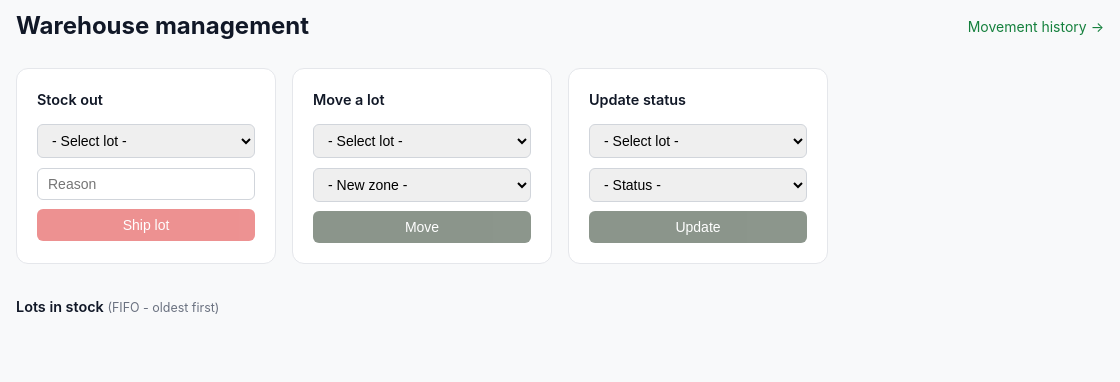
Test: WarehouseView › shows a success message after a stock-out
This screenshot has width=1120, height=382.
Step 1. Select "ABC123" in the dropdown below "Stock out" → (146, 141), box [37, 124, 255, 158]
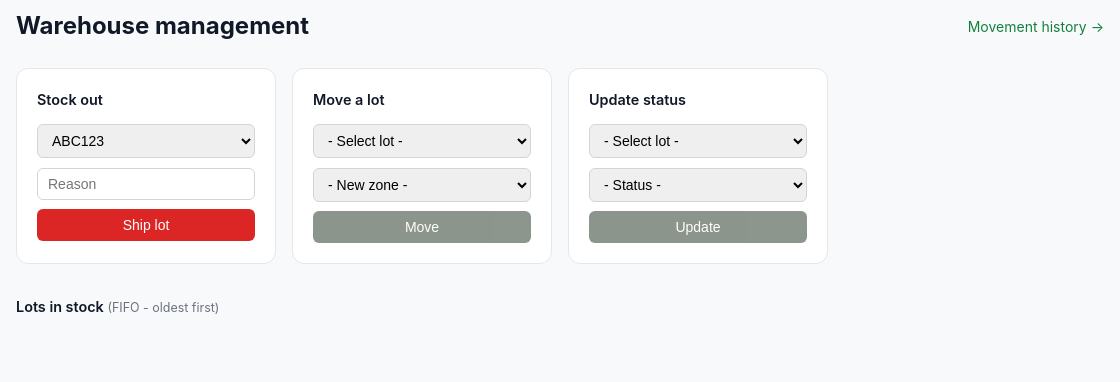
Step 2. Click the button with class "btn-danger" → (146, 225), box [37, 209, 255, 241]
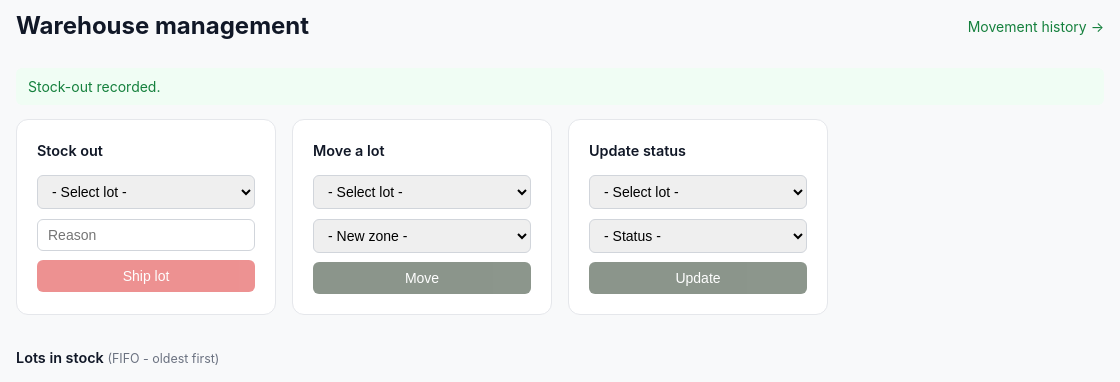
Result: the text with class "success" reads "Stock-out recorded." at [28, 78, 160, 95]
